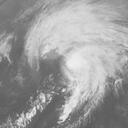cyclone: (63, 49, 105, 90)
